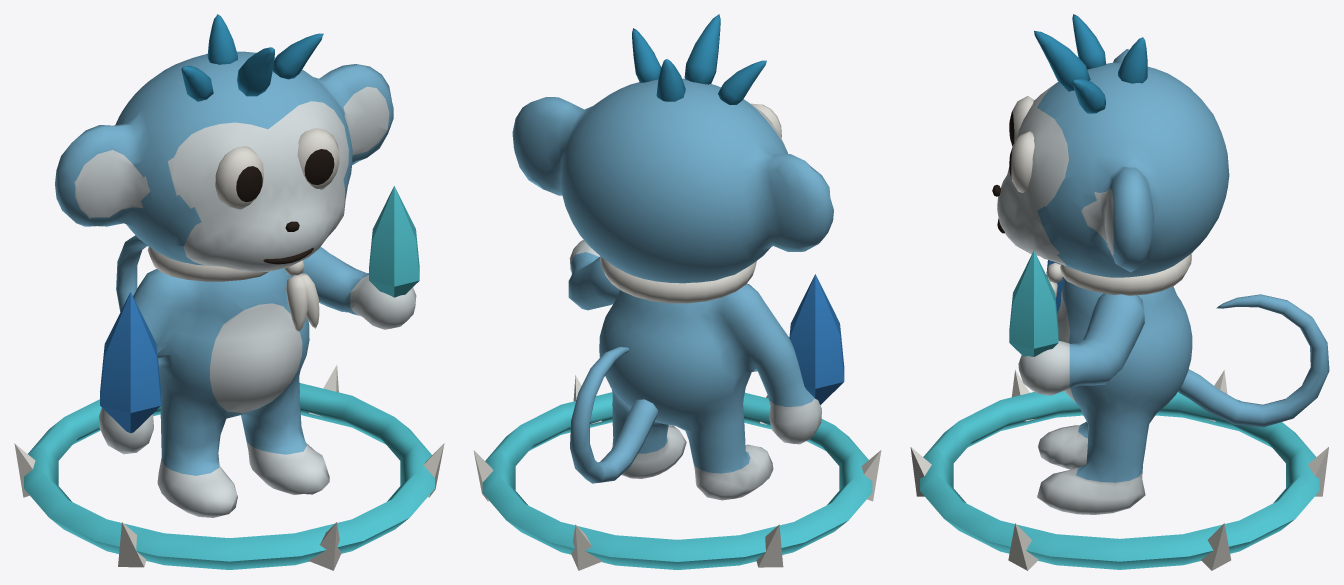
The picture shows the model from 3 angles, left to right: view 1: azimuth 30°, elevation 25°; view 2: azimuth 150°, elevation 25°; view 3: azimuth 270°, elevation 25°; orthographic projection. The views are drawn at different scales.
Parts seen in each view (by area): view 1: gelo_3_cabeca, gelo_1_corpo, gelo_0_base, gelo_4_braco, gelo_2_cauda; view 2: gelo_3_cabeca, gelo_1_corpo, gelo_0_base, gelo_2_cauda, gelo_4_braco; view 3: gelo_3_cabeca, gelo_0_base, gelo_1_corpo, gelo_4_braco, gelo_2_cauda.
Part boxes in pixels (x1,y1,x2,y2): gelo_3_cabeca: (55,14,393,271); gelo_1_corpo: (99,246,329,517); gelo_0_base: (14,365,444,570); gelo_4_braco: (292,186,419,329); gelo_2_cauda: (116,235,148,311); gelo_3_cabeca: (512,14,833,283); gelo_1_corpo: (599,256,844,500); gelo_0_base: (473,375,881,570); gelo_2_cauda: (570,347,657,483); gelo_4_braco: (568,240,619,310); gelo_3_cabeca: (992,14,1229,277); gelo_0_base: (910,370,1328,570); gelo_1_corpo: (1037,253,1192,514); gelo_4_braco: (1009,251,1144,395); gelo_2_cauda: (1178,294,1329,427).
Size of the model in its own units: 0.852 by 1.08 by 0.8791.
